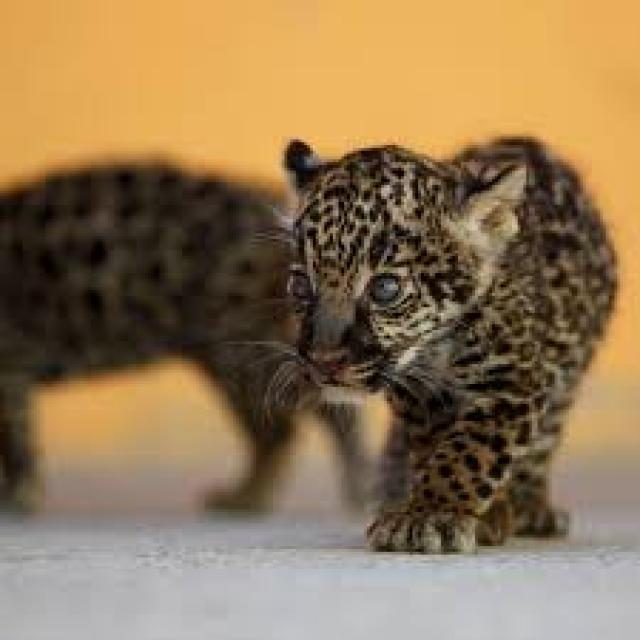Jaguar: (282, 136, 620, 554)
